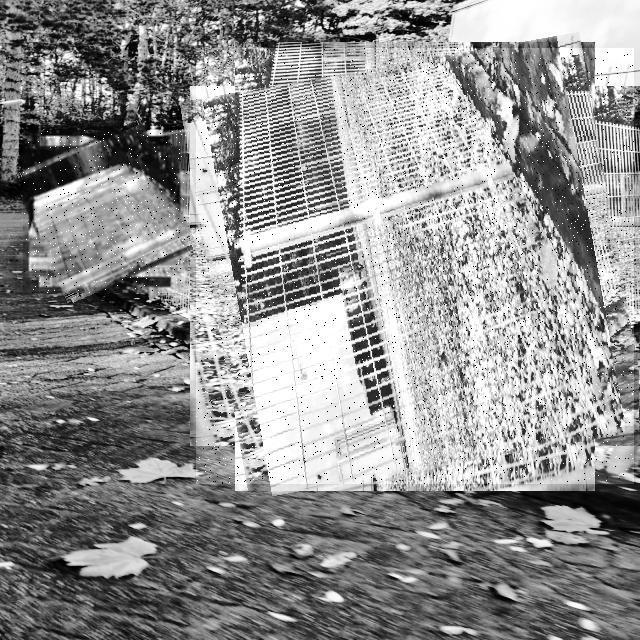fences: (196, 48, 634, 484), (23, 130, 187, 293)
